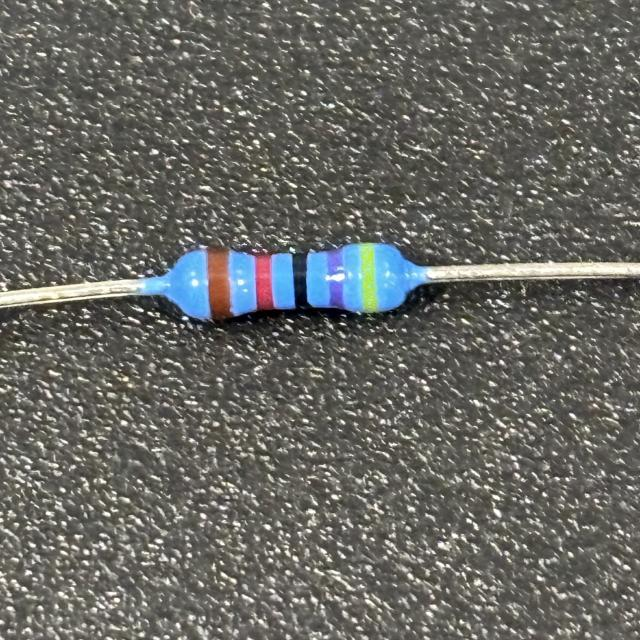resistor: (176, 238, 399, 322)
